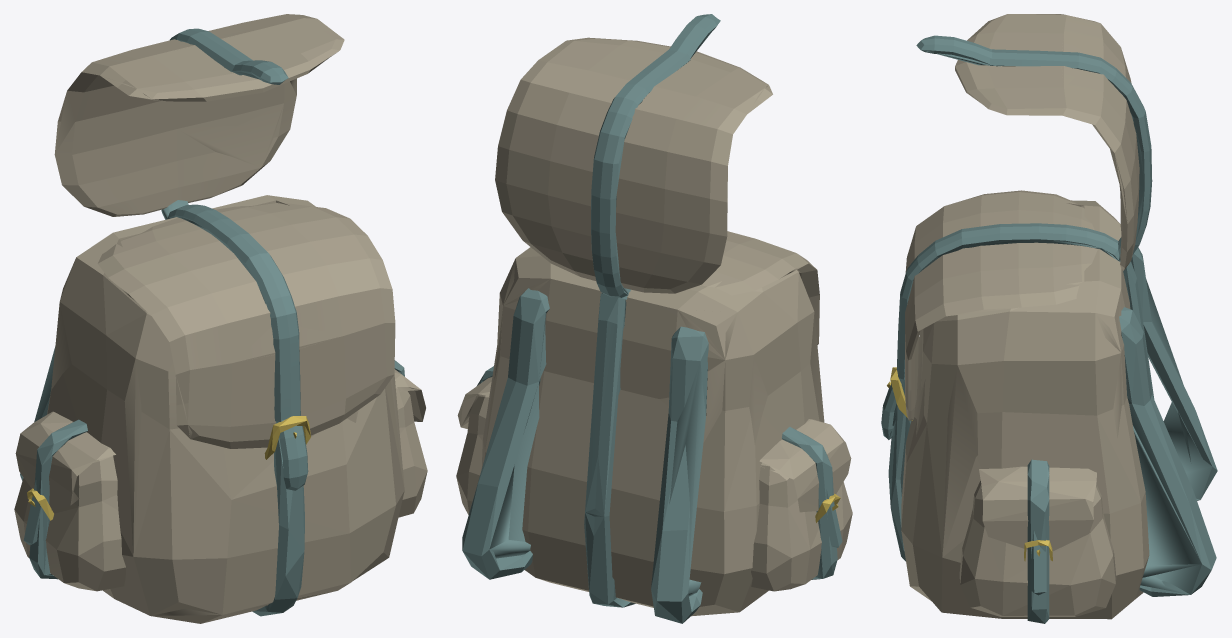
Rendered from item_backpack_white.glb.
3 views of the same model, side by side, from view 1: azimuth 30°, elevation 25°; view 2: azimuth 150°, elevation 25°; view 3: azimuth 270°, elevation 25° (orthographic). The views are drawn at different scales.
Parts seen in each view (by area): view 1: Backpack.002 (×2), Backpack; view 2: Backpack, Backpack.002 (×2); view 3: Backpack, Backpack.002 (×2).
Boxes of the visible parts, x1,y1,x2,y2 form: Backpack.002 (×2): (54, 14, 395, 490); Backpack: (14, 195, 427, 623); Backpack: (456, 247, 852, 623); Backpack.002 (×2): (495, 14, 819, 344); Backpack: (887, 200, 1217, 623); Backpack.002 (×2): (881, 14, 1152, 439).
Bounding box in the file's own units: 0.5338 × 0.7229 × 0.4031.
1 material, 1 textured.
